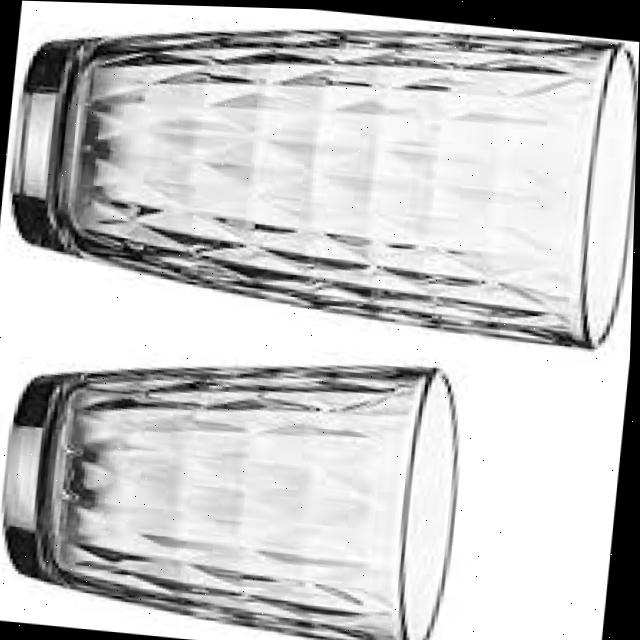Dry: (0, 0, 640, 347)
